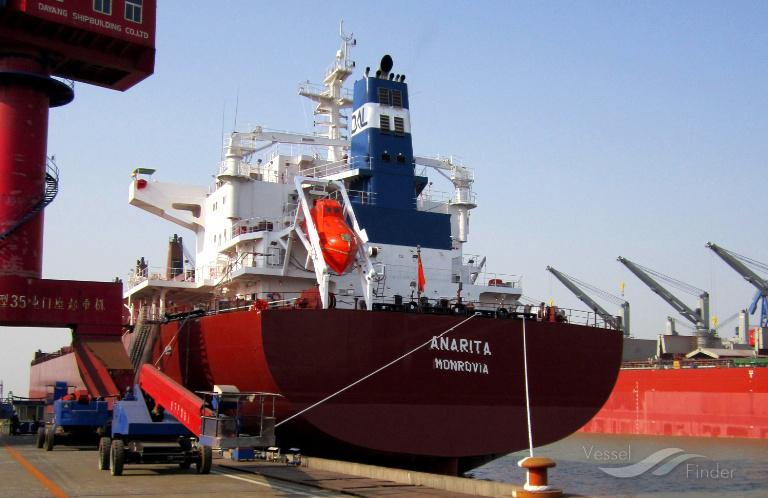OCR: (428, 328, 496, 379)
